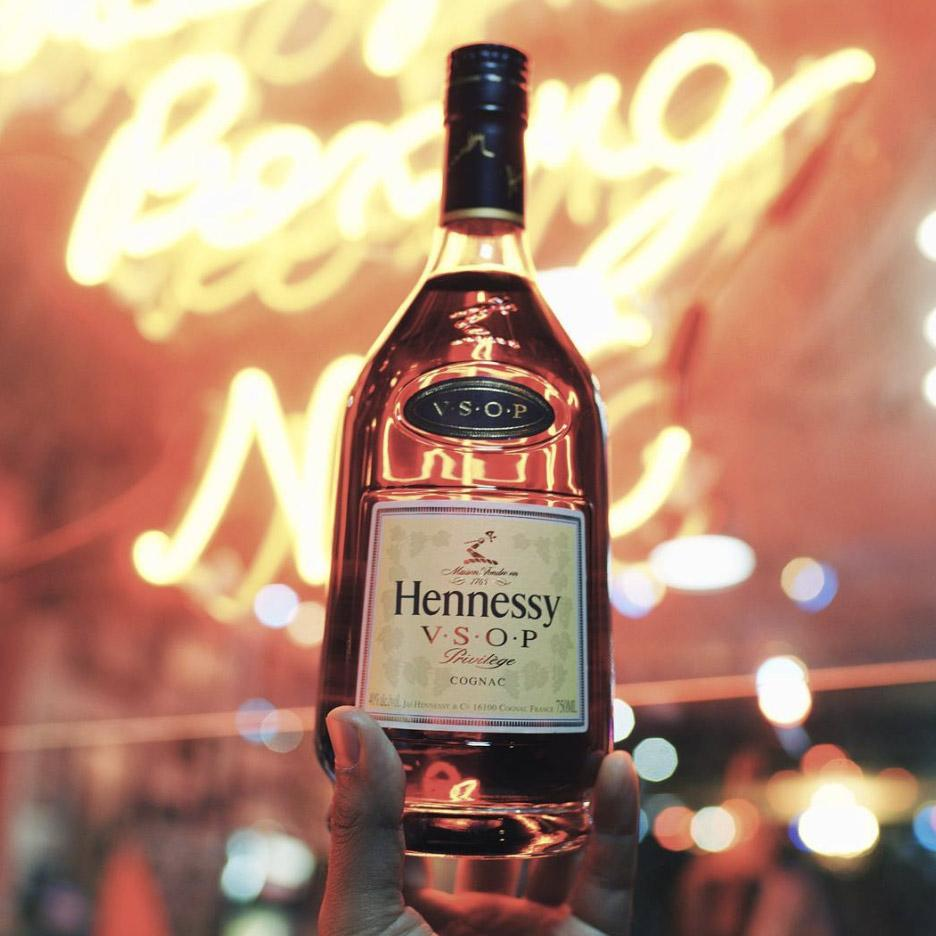Hennessy: (294, 27, 649, 877)
